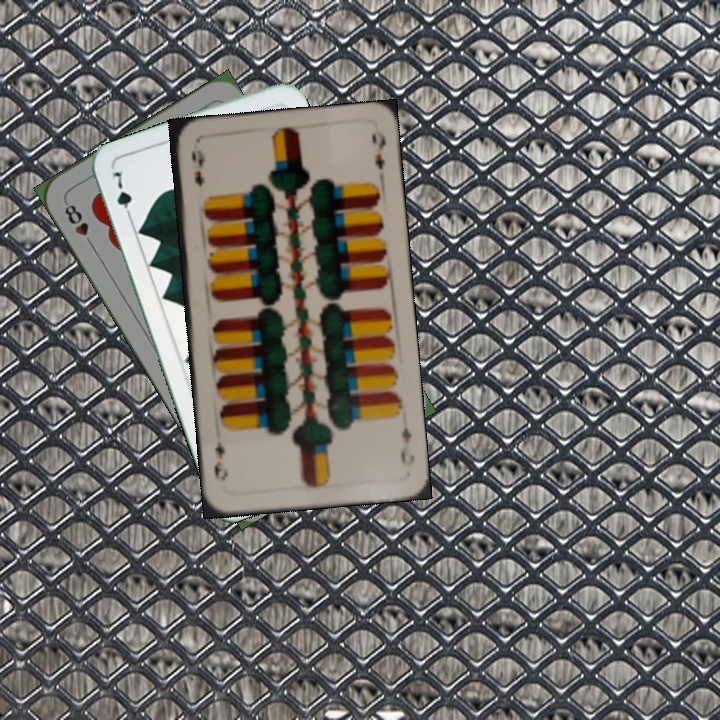E9: (397, 424, 417, 471), (187, 146, 207, 189)
G7: (109, 167, 136, 224)
H8: (60, 197, 97, 250)
